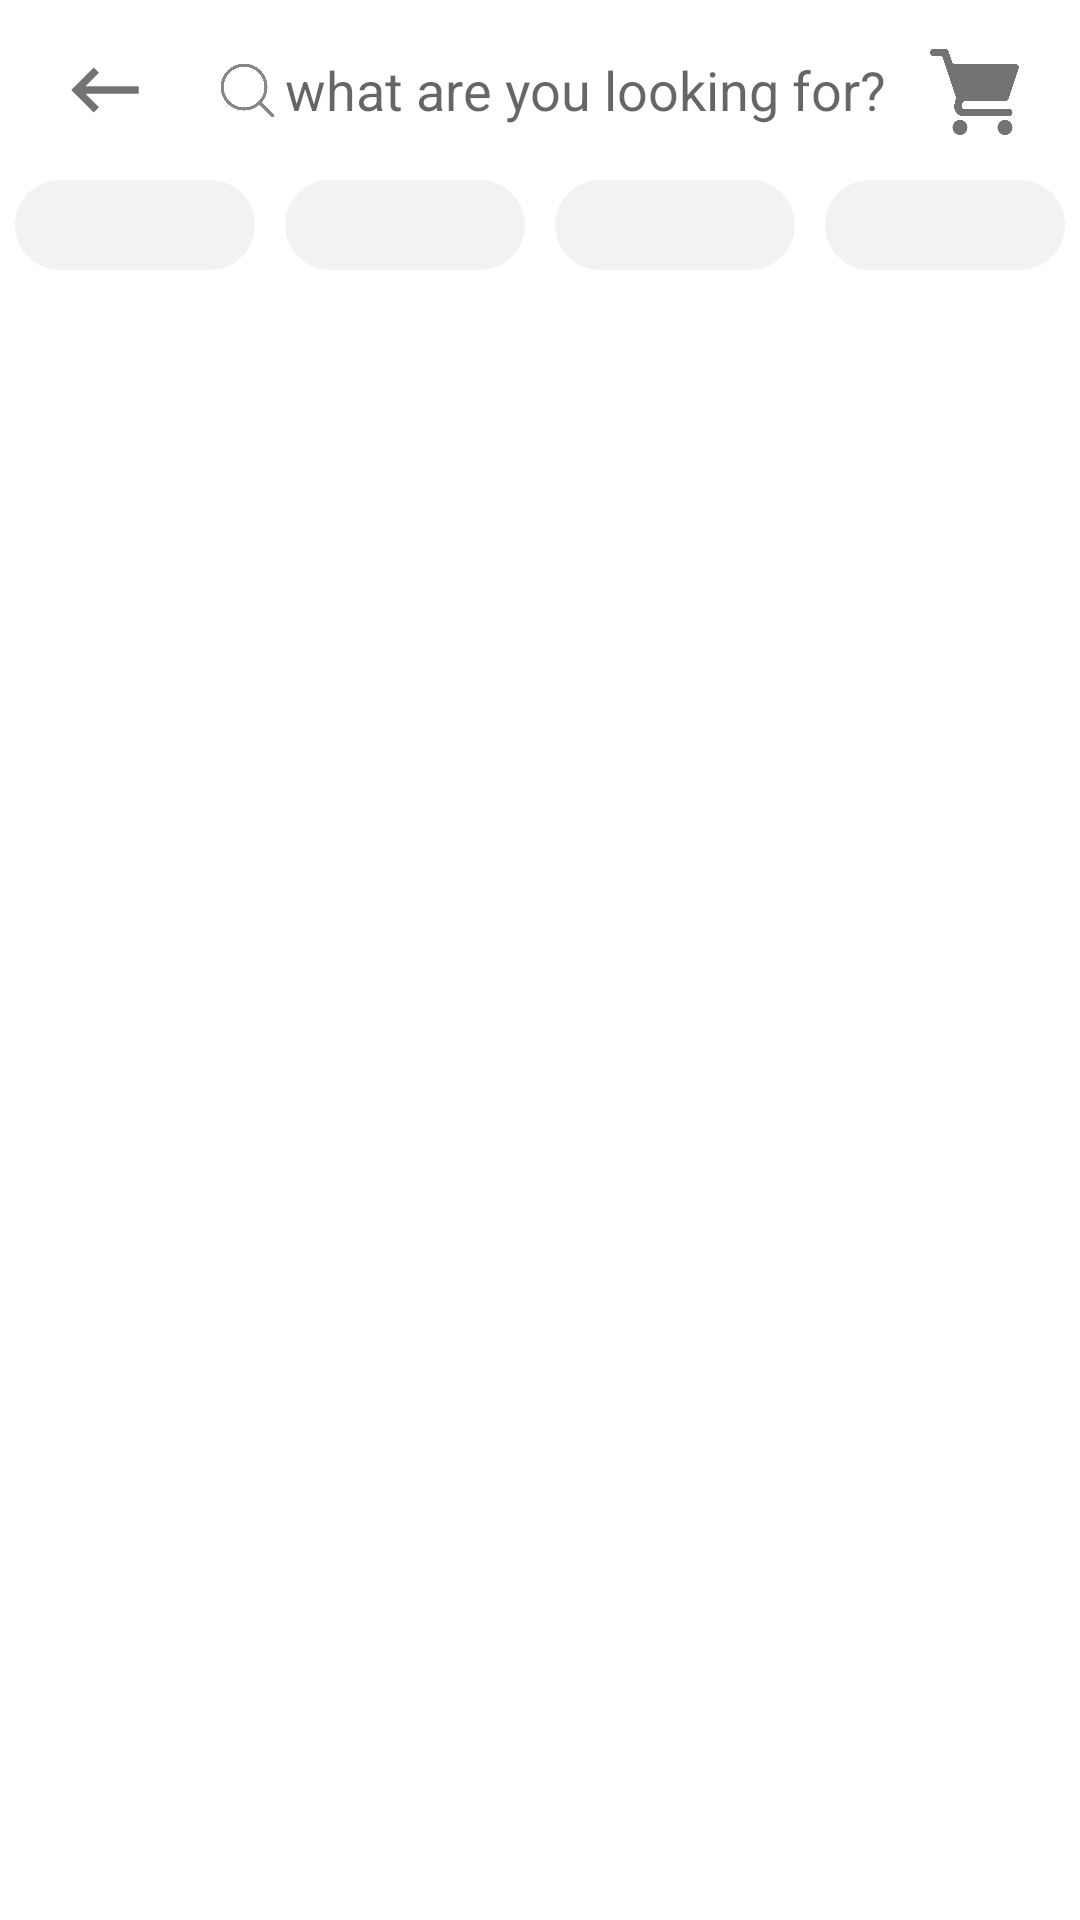

Named icons in this screenshot (1080w x 1920h) and their bounding boxes, box(x1, y1, x2, y2):
grocery store: box(930, 49, 1019, 135)
magnifying glass: box(221, 64, 274, 117)
